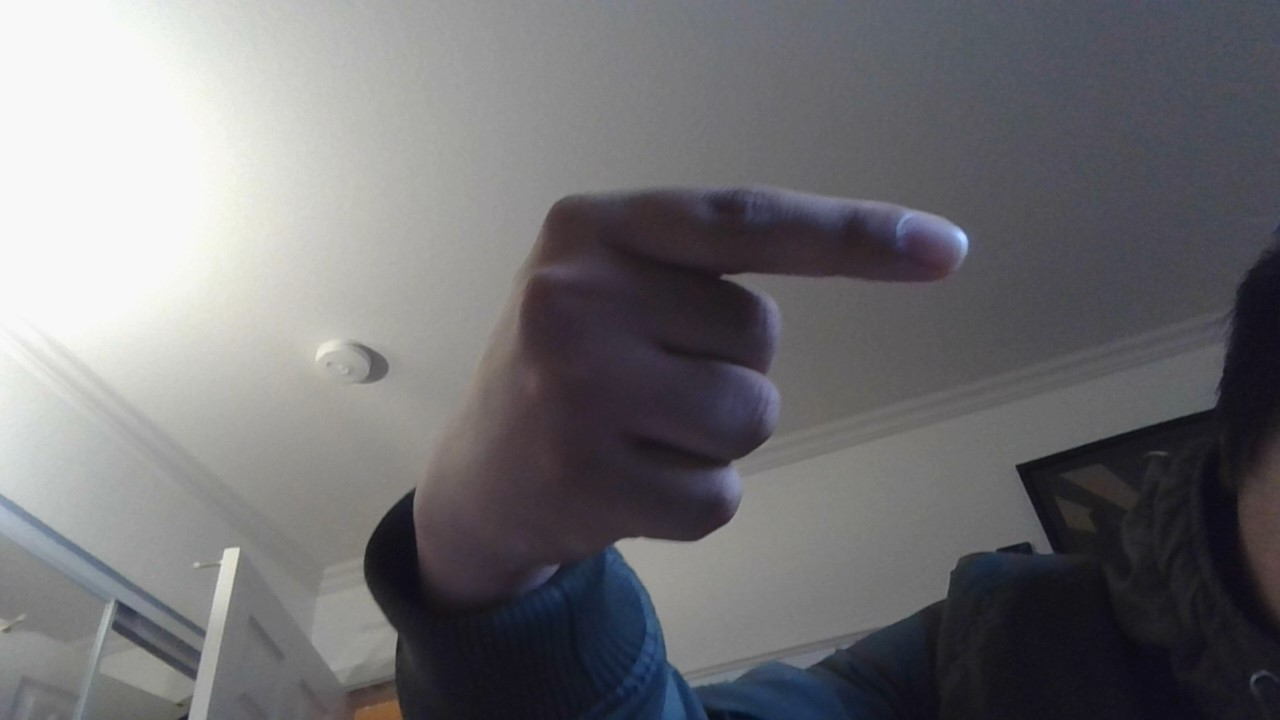g: (365, 168, 1021, 636)
